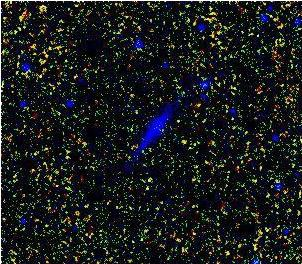star: (169, 126, 199, 156)
